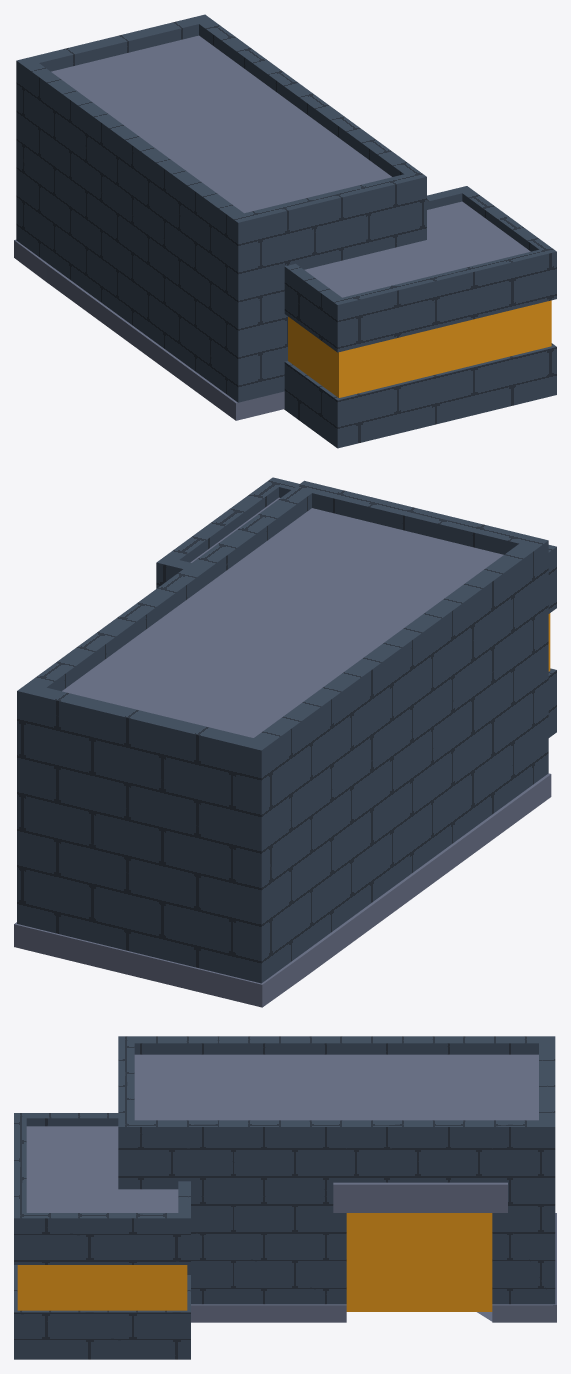
The model's file is AnotherBuilding.fbx.
3 views of the same model, one above another, from view 1: azimuth 30°, elevation 25°; view 2: azimuth 150°, elevation 25°; view 3: azimuth 270°, elevation 25° (orthographic). The views are drawn at different scales.
Visible parts, largest first — view 1: Cube.002; view 2: Cube.002; view 3: Cube.002.
Boxes of the visible parts, x1=… form: Cube.002: x1=14, y1=14, x2=556, y2=448; Cube.002: x1=14, y1=477, x2=556, y2=1007; Cube.002: x1=14, y1=1036, x2=556, y2=1359.
Size of the model in its own units: 3462 by 1945 by 1374.
